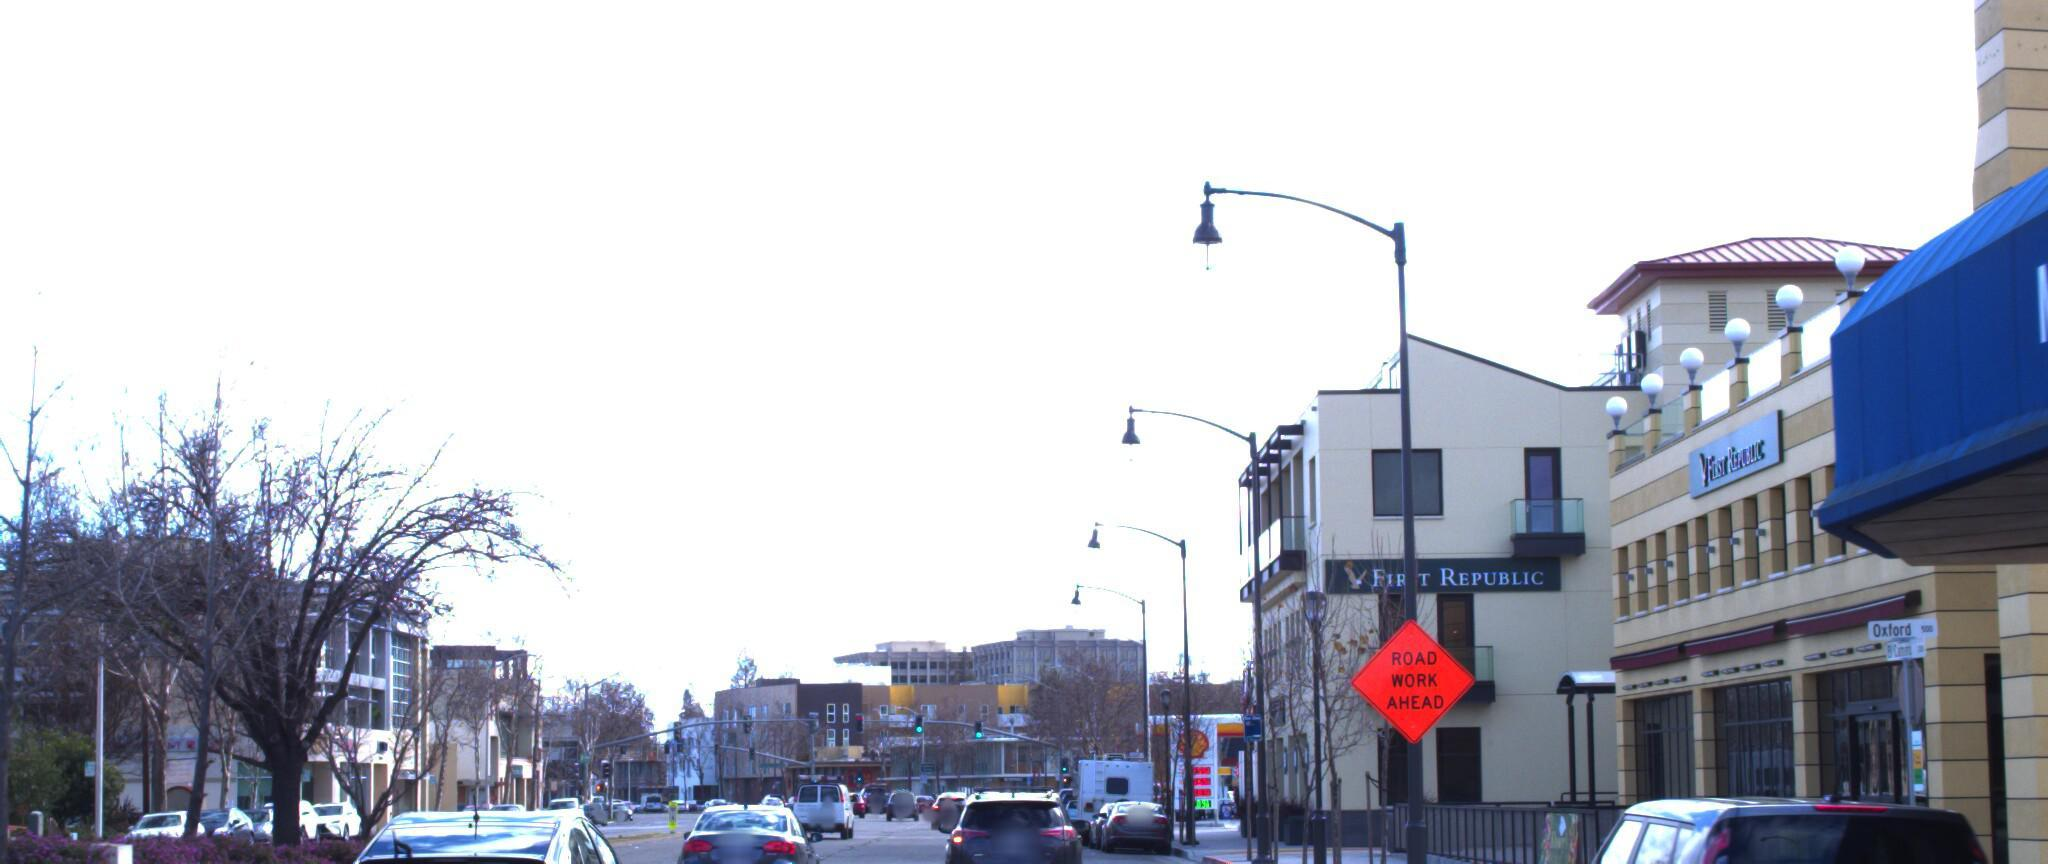car: (1464, 773, 2048, 864), (282, 784, 657, 864), (921, 780, 1061, 864), (664, 790, 808, 864), (1093, 790, 1173, 846)
